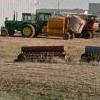Tractor: (5, 9, 57, 42)
